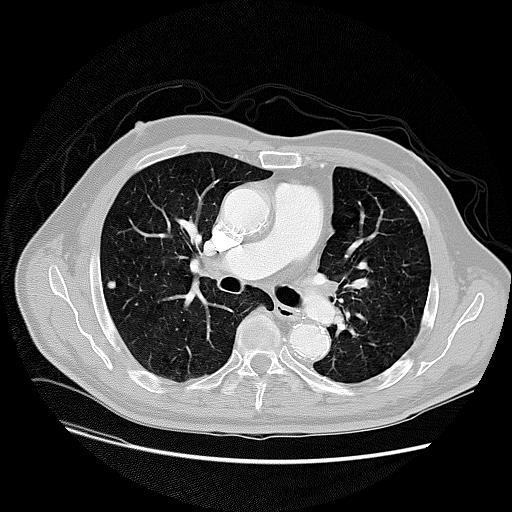nodule: (105, 278, 119, 292)
